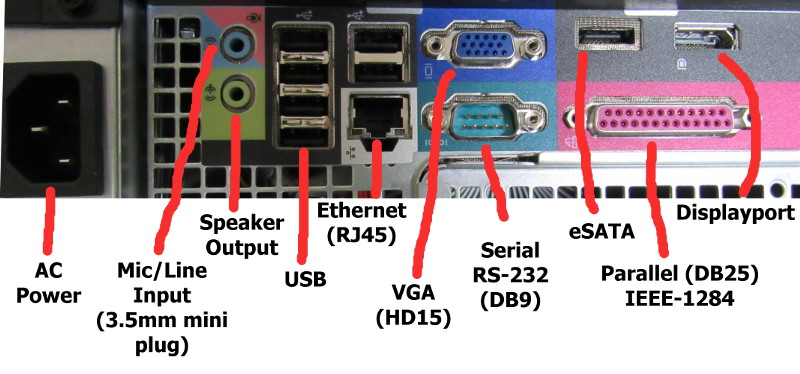Ethernet: (344, 94, 413, 139), (449, 25, 518, 63)
USB: (348, 19, 409, 51), (275, 22, 332, 55), (276, 57, 331, 88), (280, 89, 330, 123), (353, 57, 405, 83), (278, 124, 330, 147)
